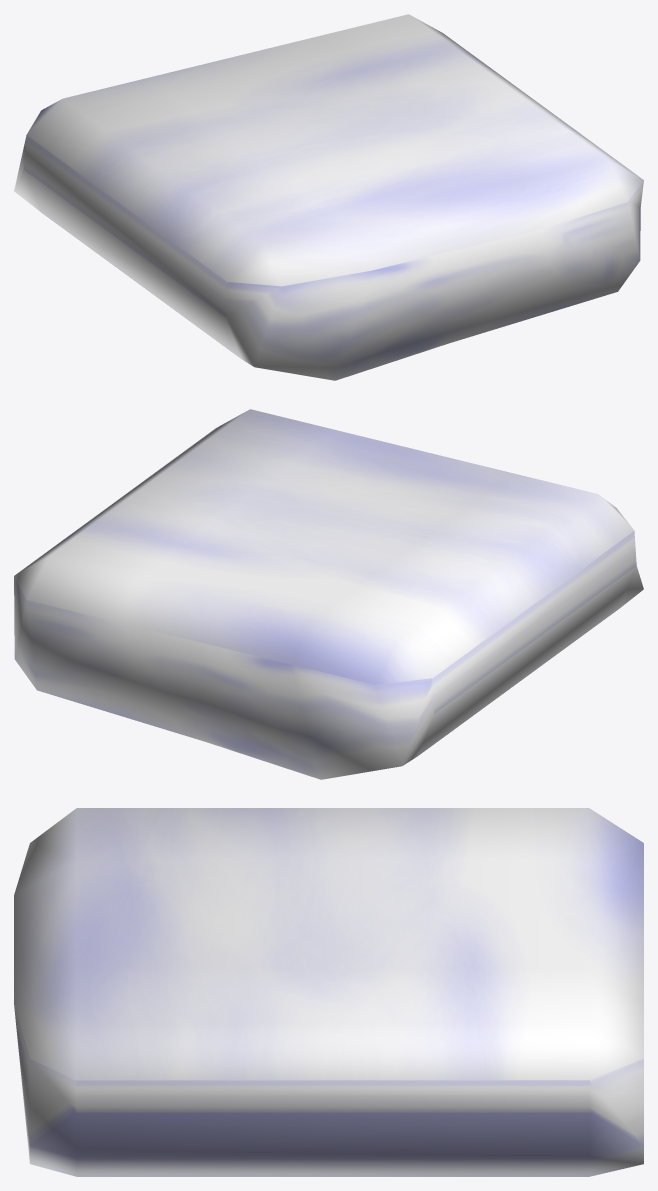
Rendered from rd_a11_snow.obj.
3 views of the same model, one above another, from view 1: azimuth 30°, elevation 25°; view 2: azimuth 150°, elevation 25°; view 3: azimuth 270°, elevation 25° (orthographic). The views are drawn at different scales.
Visible parts, largest first — view 1: polySurface11; view 2: polySurface11; view 3: polySurface11.
Boxes of the visible parts, x1,y1,x2,y2 form: polySurface11: (14, 14, 643, 380); polySurface11: (14, 409, 643, 779); polySurface11: (14, 808, 643, 1176).
Size of the model in its own units: 106 by 34.2 by 108.
Materials: 1 (1 with a texture image).
